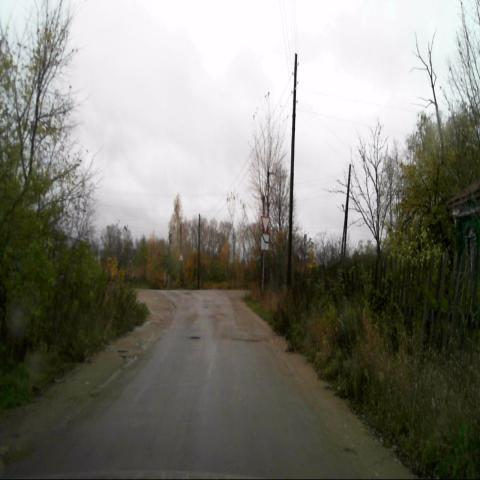2_4: (261, 215, 271, 232)
